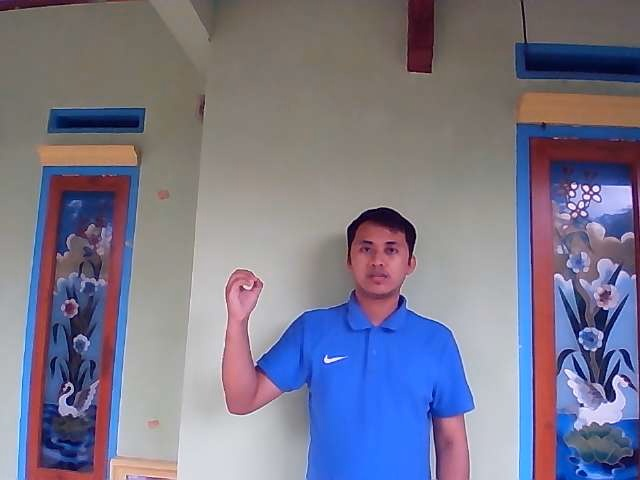O: (222, 267, 265, 321)
